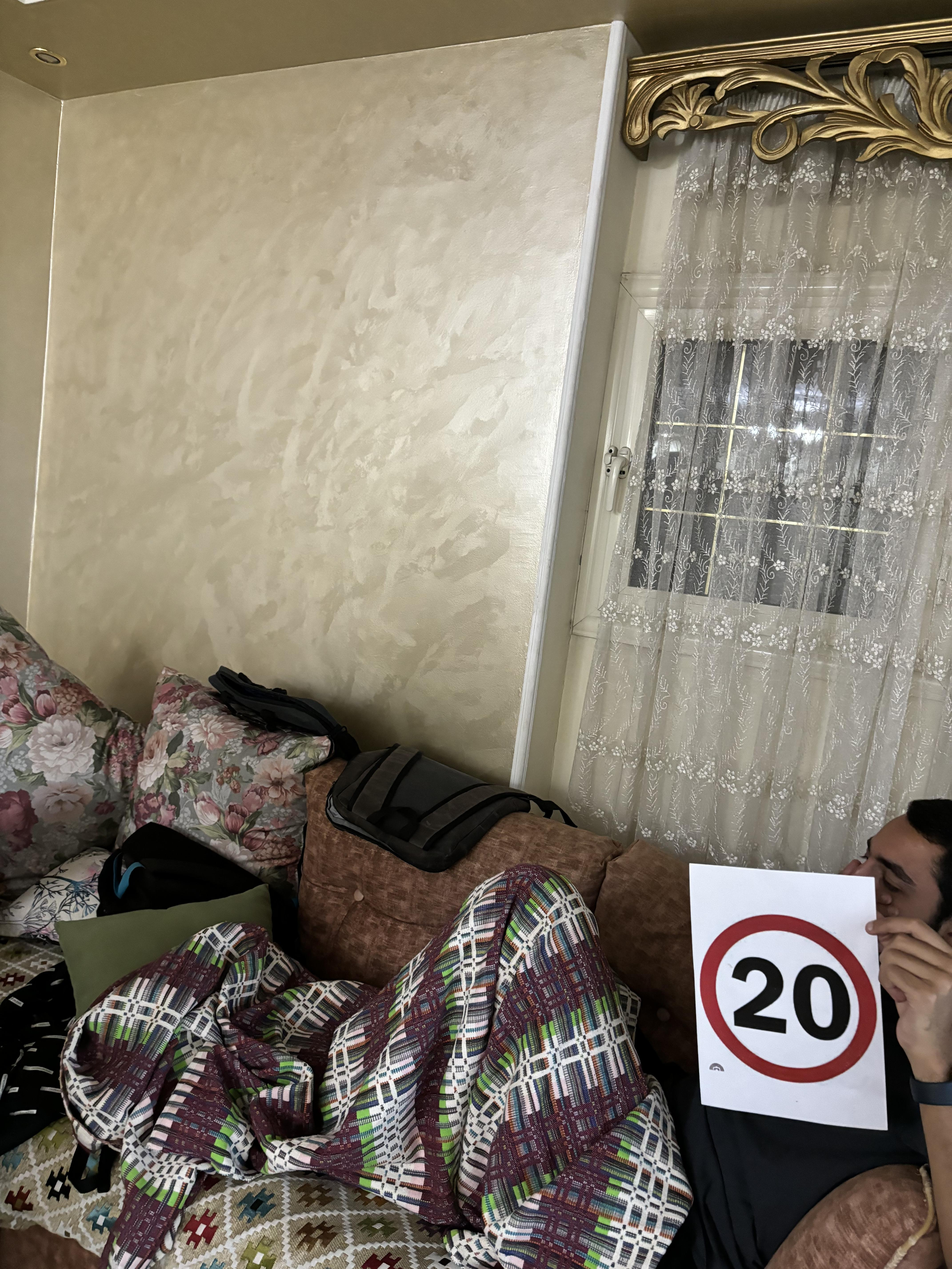20-Speed: (696, 914, 882, 1085)
